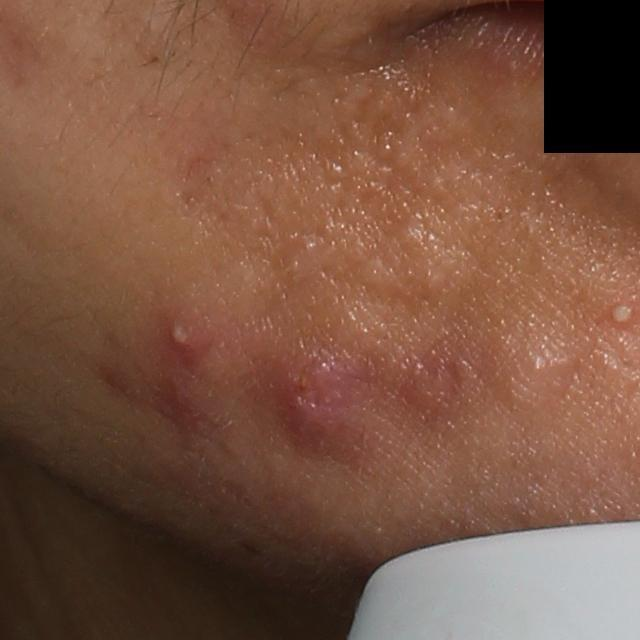atrophic_scar: (194, 93, 471, 301), (104, 371, 216, 445)
hypertrophic_scar: (485, 318, 587, 416)
nodule: (262, 329, 383, 459)
papule: (410, 365, 462, 413)
pustule: (159, 316, 204, 359), (598, 299, 640, 331)
